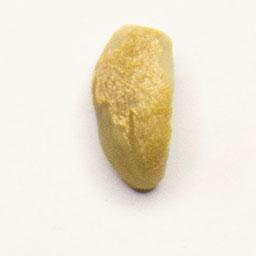defect: (88, 21, 178, 195)
